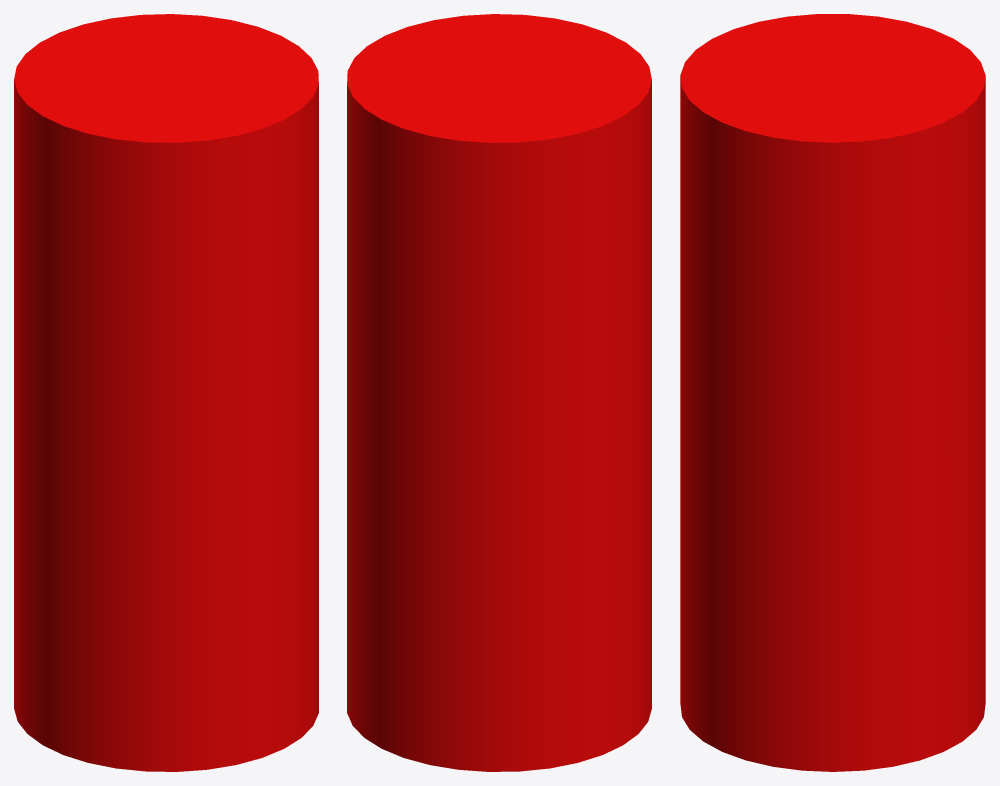
The picture shows the model from 3 angles, left to right: view 1: azimuth 30°, elevation 25°; view 2: azimuth 150°, elevation 25°; view 3: azimuth 270°, elevation 25°; orthographic projection.
Visible parts, largest first — view 1: FBXASC229FBXASC135FBXASC184FBXASC229FBXASC143FBXASC176-FBXAS; view 2: FBXASC229FBXASC135FBXASC184FBXASC229FBXASC143FBXASC176-FBXAS; view 3: FBXASC229FBXASC135FBXASC184FBXASC229FBXASC143FBXASC176-FBXAS.
Boxes of the visible parts, box(x1,y1,x2,y2) form: FBXASC229FBXASC135FBXASC184FBXASC229FBXASC143FBXASC176-FBXAS: box(14, 14, 318, 771); FBXASC229FBXASC135FBXASC184FBXASC229FBXASC143FBXASC176-FBXAS: box(347, 14, 651, 771); FBXASC229FBXASC135FBXASC184FBXASC229FBXASC143FBXASC176-FBXAS: box(680, 14, 985, 771).
Size of the model in its own units: 1.73 by 1.73 by 3.94.
